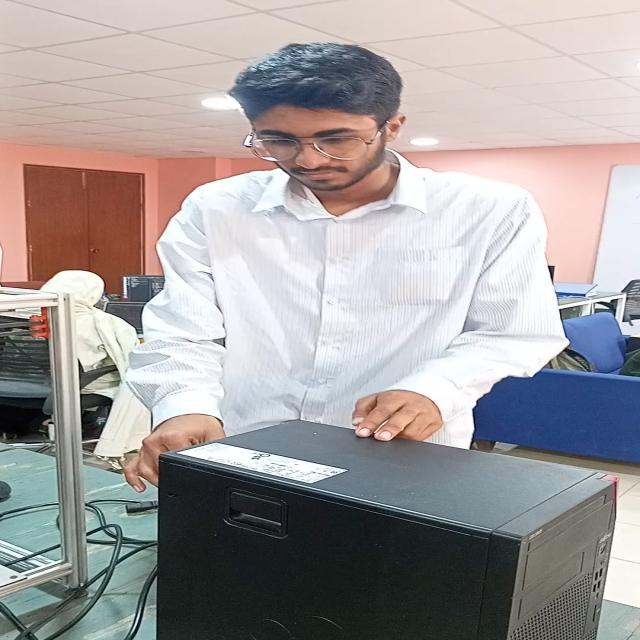dress: (129, 151, 569, 444)
glasses: (243, 130, 390, 159)
